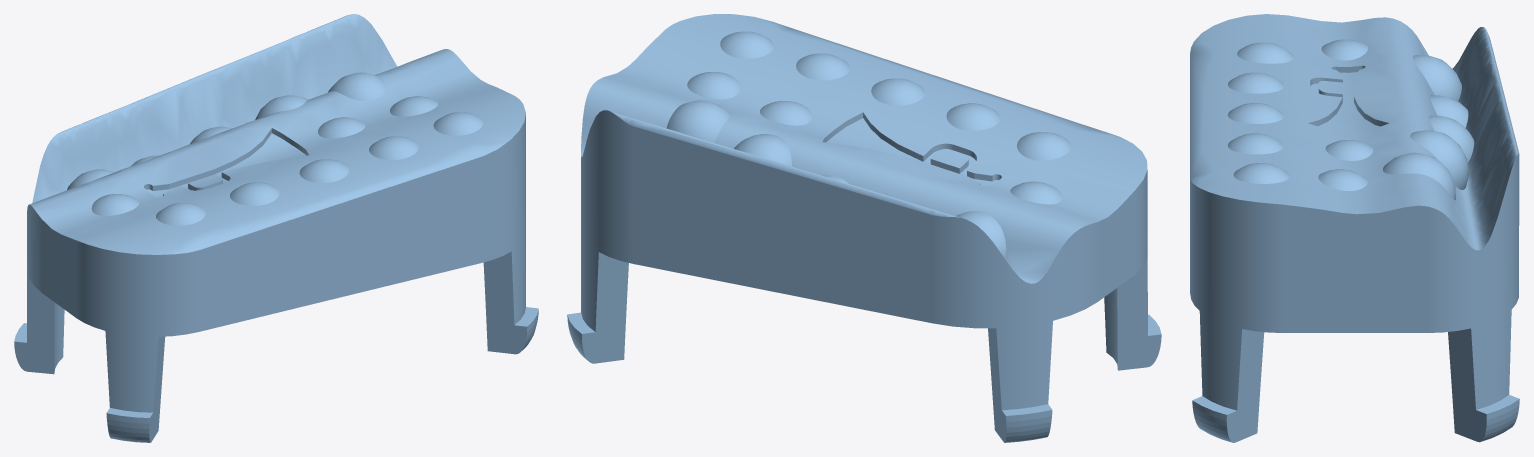
3 views of the same model, side by side, from view 1: azimuth 30°, elevation 25°; view 2: azimuth 150°, elevation 25°; view 3: azimuth 270°, elevation 25° (orthographic). The views are drawn at different scales.
Visible parts, largest first — view 1: part_0; view 2: part_0; view 3: part_0.
Part boxes in pixels (x1,y1,x2,y2): part_0: (14, 14, 538, 442); part_0: (567, 14, 1161, 442); part_0: (1190, 14, 1519, 442).
Size of the model in its own units: 38.92 by 20.48 by 23.32.
